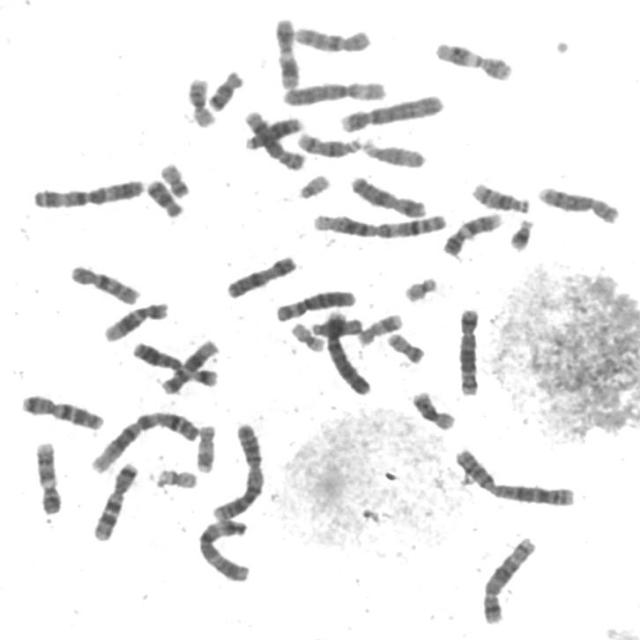A1: (86, 405, 203, 475), (308, 206, 452, 240)
A2: (451, 441, 580, 508), (209, 417, 269, 524)
A3: (28, 172, 148, 211), (193, 513, 256, 583)
B4: (336, 87, 448, 134), (321, 305, 375, 397)
B5: (478, 530, 540, 626), (454, 302, 485, 396)
C10: (66, 258, 145, 307), (290, 20, 376, 54)
C11: (432, 35, 517, 82), (272, 12, 303, 91)
C12: (158, 334, 221, 396), (100, 296, 172, 342)
C6: (280, 74, 392, 108), (271, 284, 359, 323)
C7: (89, 457, 143, 542), (17, 388, 108, 432)
C8: (240, 105, 308, 172), (534, 180, 623, 224)
C9: (440, 207, 506, 257), (31, 436, 66, 516)
D13: (241, 110, 306, 152), (130, 337, 188, 377)
D14: (468, 176, 534, 214), (293, 126, 367, 159)
D15: (360, 132, 429, 170), (306, 312, 366, 338)
E16: (407, 385, 460, 432), (183, 71, 220, 129)
E17: (354, 306, 406, 346), (192, 418, 220, 474)
E18: (204, 63, 248, 112), (143, 173, 187, 219)
F19: (287, 316, 329, 352), (154, 469, 202, 492)
F20: (383, 327, 429, 365), (156, 157, 193, 200)
G21: (505, 213, 538, 252), (189, 362, 221, 388)
G22: (400, 271, 442, 303), (295, 168, 334, 200)
X: (347, 170, 431, 220), (222, 249, 301, 300)
